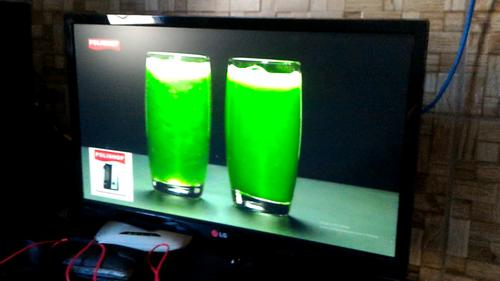Polishop #1: (88, 147, 134, 203)
